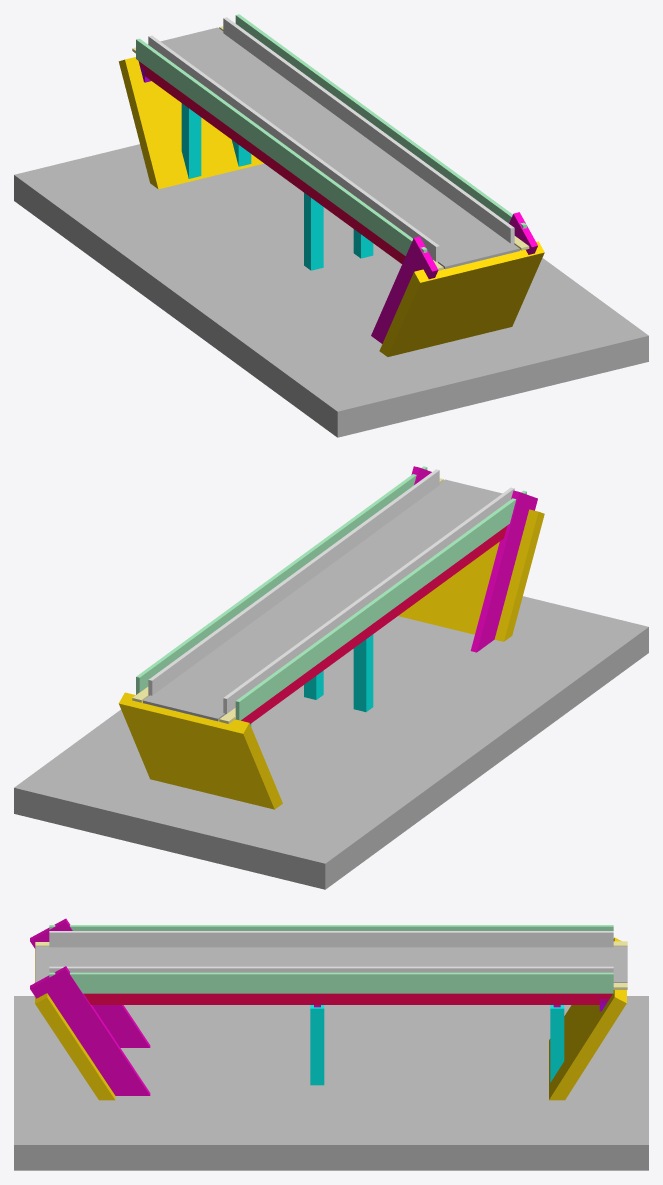
File: PonteCompleta.gltf
The picture shows the model from 3 angles, top to bottom: view 1: azimuth 30°, elevation 25°; view 2: azimuth 150°, elevation 25°; view 3: azimuth 270°, elevation 25°; orthographic projection.
Visible parts, largest first — view 1: Ground, Road Surface 1, Slope 2, Slope 1, Parapet 1, Crash Barrier 2, Crash Barrier 1, Parapet 2, Wing Wall 2, Deck 1, Support 3, Deck 6 (+1 smaller); view 2: Ground, Road Surface 1, Slope 1, Parapet 1, Slope 2, Crash Barrier 2, Crash Barrier 1, Parapet 2, Wing Wall 2, Deck 1, Support 3, Deck 6; view 3: Ground, Road Surface 1, Parapet 2, Crash Barrier 1, Wing Wall 1, Crash Barrier 2, Slope 1, Deck 1, Parapet 1, Deck 6, Slope 2, Wing Wall 2 (+2 smaller).
Part boxes in pixels (box(x1,y1,x2,y2)): Ground: box(14, 144, 648, 437); Road Surface 1: box(160, 27, 519, 269); Slope 2: box(379, 241, 544, 356); Slope 1: box(118, 57, 263, 189); Parapet 1: box(136, 38, 427, 255); Crash Barrier 2: box(223, 17, 514, 243); Crash Barrier 1: box(148, 35, 439, 262); Parapet 2: box(235, 14, 526, 228); Wing Wall 2: box(371, 236, 438, 343); Deck 1: box(138, 61, 281, 175); Support 3: box(304, 193, 323, 270); Deck 6: box(281, 166, 405, 263); Ground: box(14, 596, 648, 889); Road Surface 1: box(143, 479, 502, 721); Slope 1: box(118, 692, 282, 809); Parapet 1: box(235, 490, 526, 720); Slope 2: box(398, 509, 544, 641); Crash Barrier 2: box(148, 469, 439, 695); Crash Barrier 1: box(223, 487, 514, 714); Parapet 2: box(136, 466, 427, 694); Wing Wall 2: box(470, 490, 537, 652); Deck 1: box(241, 618, 381, 723); Support 3: box(353, 634, 373, 711); Deck 6: box(381, 526, 506, 627); Ground: box(14, 996, 648, 1170); Road Surface 1: box(35, 946, 627, 982); Parapet 2: box(49, 972, 613, 993); Crash Barrier 1: box(49, 931, 613, 947); Wing Wall 1: box(30, 966, 150, 1095); Crash Barrier 2: box(49, 966, 613, 972); Slope 1: box(549, 937, 626, 1100); Deck 1: box(331, 993, 612, 1004); Parapet 1: box(49, 925, 613, 930); Deck 6: box(84, 993, 331, 1004); Slope 2: box(35, 949, 115, 1100); Wing Wall 2: box(30, 918, 150, 1047).
Bounding box in the file's own units: 25 × 11.92 × 45.
